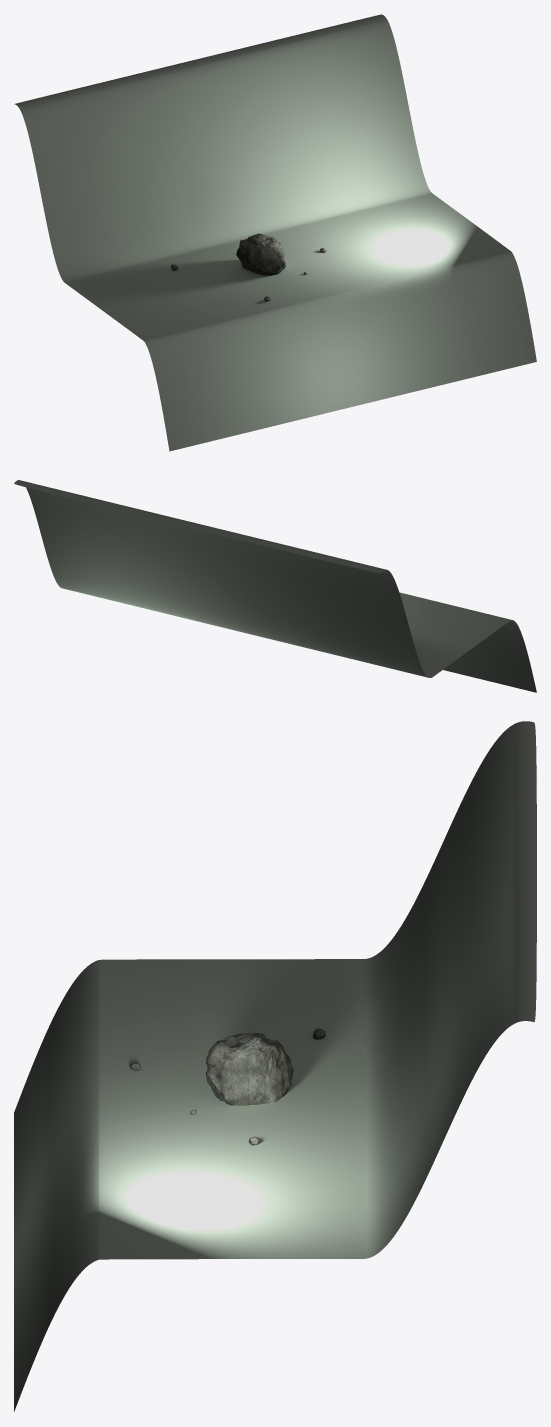
File: stone.glb
3 views of the same model, one above another, from view 1: azimuth 30°, elevation 25°; view 2: azimuth 150°, elevation 25°; view 3: azimuth 270°, elevation 25° (orthographic). The views are drawn at different scales.
Parts seen in each view (by area): view 1: Plane, LowPoly001_Material #108_0.005; view 2: Plane; view 3: Plane, LowPoly001_Material #108_0.005.
Boxes of the visible parts, x1,y1,x2,y2 form: Plane: (14, 14, 536, 451); LowPoly001_Material #108_0.005: (171, 233, 326, 301); Plane: (14, 480, 536, 692); Plane: (14, 721, 536, 1411); LowPoly001_Material #108_0.005: (129, 1028, 325, 1145).
Size of the model in its own units: 2.74 by 1.67 by 2.02.
Materials: 2 (2 with a texture image).
